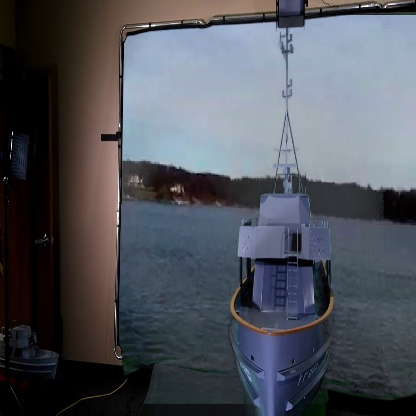YP689: (231, 30, 335, 416)
